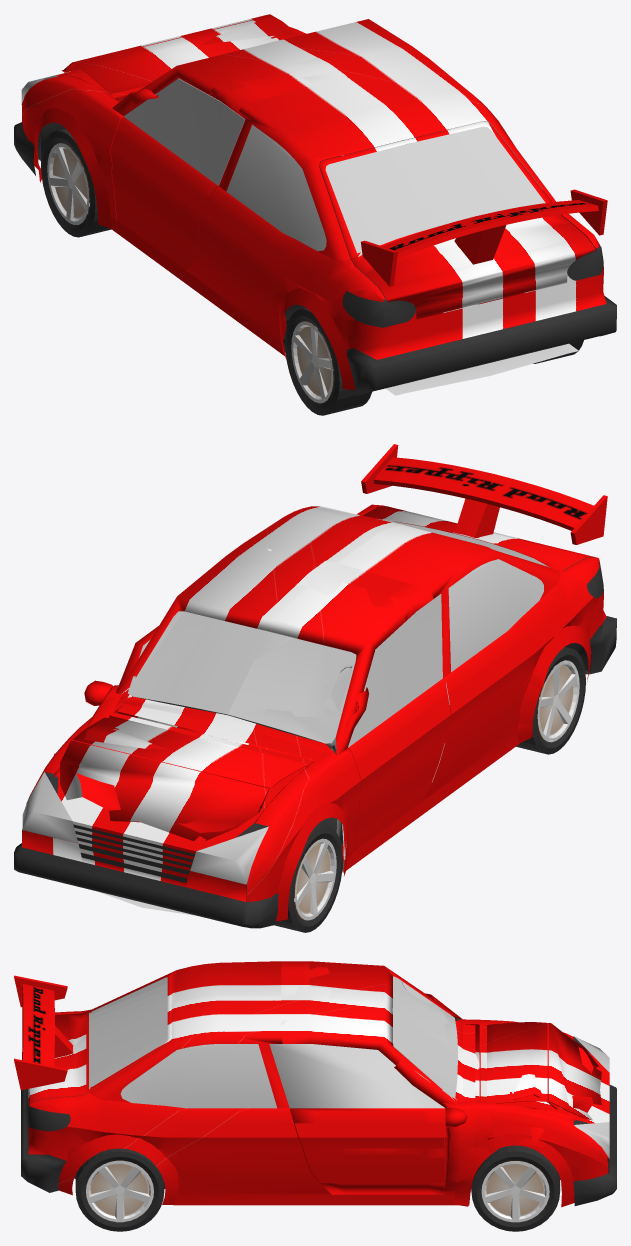
File: CarOld.fbx
The picture shows the model from 3 angles, top to bottom: view 1: azimuth 30°, elevation 25°; view 2: azimuth 150°, elevation 25°; view 3: azimuth 270°, elevation 25°; orthographic projection. The views are drawn at different scales.
Parts seen in each view (by area): view 1: Trunk, RLTop, LSidePanel, Rear, FLDoor, RRTop, FLWing, Bonnet.FCrunch, FRTop, FLTop, CarBody, FLTop.Crunch (+11 smaller); view 2: Bonnet.FCrunch, FRTop, LSidePanel, FLDoor, FLTop, RLTop, FrontPanel, Trunk, FLWing, CarBody, RRTop, Bonnet (+15 smaller); view 3: RSidePanel, RRTop, Trunk, FRDoor.Scrape, FRTop, Bonnet.FCrunch, FRDoor, FRWing, FLTop, FRWing.FRCrunch, RLTop, FRWheel (+15 smaller).
Part boxes in pixels (left/top/right/bottom): Trunk: left=319, top=121, right=607, bottom=318; RLTop: left=219, top=79, right=403, bottom=260; LSidePanel: left=110, top=186, right=383, bottom=390; Rear: left=344, top=267, right=616, bottom=395; FLDoor: left=110, top=78, right=245, bottom=270; RRTop: left=336, top=59, right=555, bottom=202; FLWing: left=21, top=75, right=123, bottom=228; Bonnet.FCrunch: left=62, top=14, right=299, bottom=98; FRTop: left=273, top=19, right=428, bottom=77; FLTop: left=123, top=42, right=306, bottom=115; CarBody: left=40, top=75, right=603, bottom=351; FLTop.Crunch: left=112, top=57, right=347, bottom=115; Bonnet.FCrunch: left=60, top=715, right=308, bottom=841; FRTop: left=117, top=543, right=323, bottom=714; LSidePanel: left=343, top=558, right=599, bottom=872; FLDoor: left=348, top=594, right=450, bottom=851; FLTop: left=228, top=582, right=433, bottom=755; RLTop: left=337, top=525, right=560, bottom=677; FrontPanel: left=14, top=821, right=278, bottom=928; Trunk: left=361, top=444, right=607, bottom=570; FLWing: left=246, top=748, right=361, bottom=928; CarBody: left=44, top=511, right=603, bottom=901; RRTop: left=243, top=506, right=401, bottom=563; Bonnet: left=57, top=712, right=313, bottom=851; RSidePanel: left=29, top=1092, right=457, bottom=1205; RRTop: left=90, top=996, right=289, bottom=1108; Trunk: left=14, top=973, right=171, bottom=1104; FRDoor.Scrape: left=269, top=1044, right=445, bottom=1194; FRTop: left=281, top=998, right=457, bottom=1103; Bonnet.FCrunch: left=479, top=1022, right=601, bottom=1120; FRDoor: left=295, top=1105, right=444, bottom=1183; FRWing: left=445, top=1107, right=608, bottom=1207; FLTop: left=309, top=961, right=461, bottom=1053; FRWing.FRCrunch: left=443, top=1101, right=575, bottom=1205; RLTop: left=92, top=961, right=281, bottom=1009; FRWheel: left=471, top=1145, right=559, bottom=1231.
Size of the model in its own units: 185 by 148 by 432.
